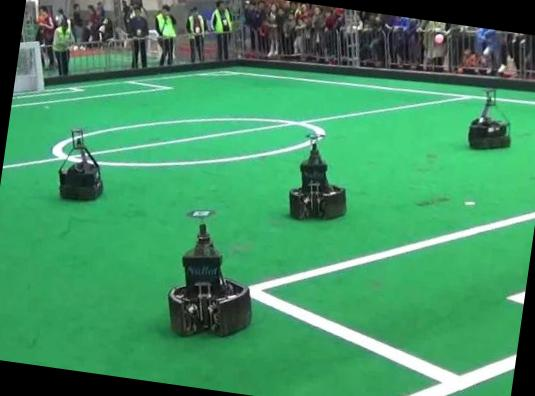goal: (33, 41, 43, 90)
robot: (167, 224, 250, 335), (288, 140, 345, 219), (58, 129, 101, 199), (469, 89, 509, 149)
